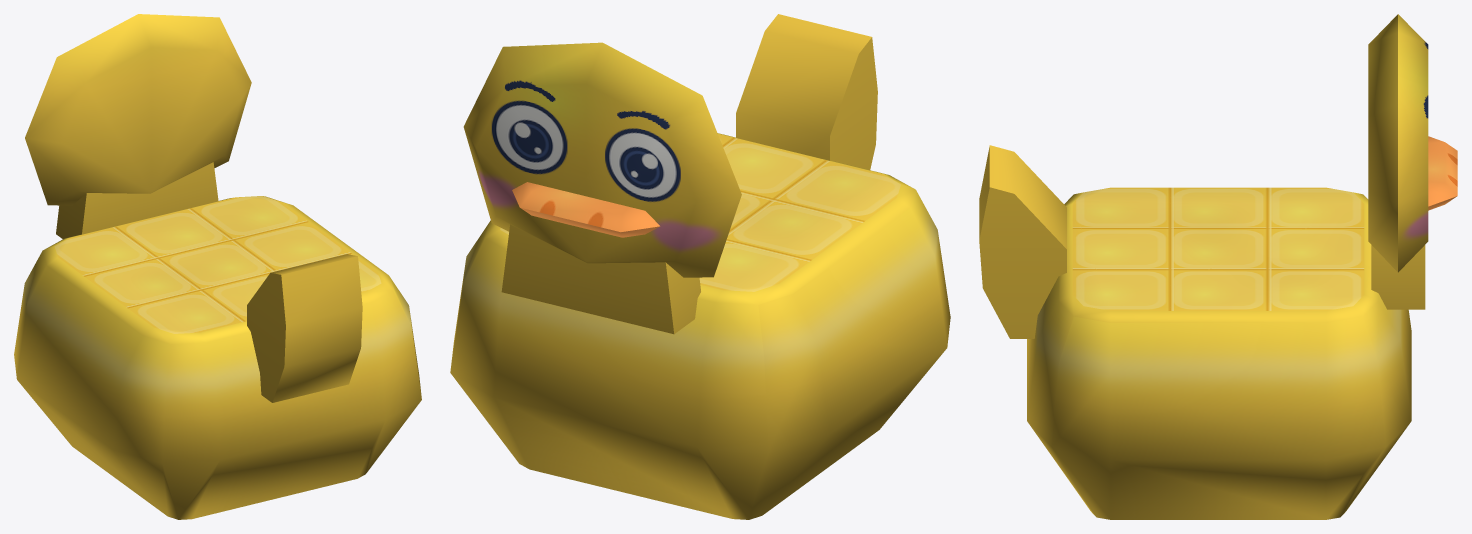
File: pool_duck_mini_classic_lod1.glb
The picture shows the model from 3 angles, left to right: view 1: azimuth 30°, elevation 25°; view 2: azimuth 150°, elevation 25°; view 3: azimuth 270°, elevation 25°; orthographic projection. The views are drawn at different scales.
Visible parts, largest first — view 1: pool_duck_mini_classic_LOD1; view 2: pool_duck_mini_classic_LOD1; view 3: pool_duck_mini_classic_LOD1.
Part boxes in pixels (x1,y1,x2,y2): pool_duck_mini_classic_LOD1: [14, 14, 421, 519]; pool_duck_mini_classic_LOD1: [450, 14, 950, 519]; pool_duck_mini_classic_LOD1: [979, 14, 1457, 519].
Size of the model in its own units: 5 by 6 by 6.
1 material, 1 textured.
